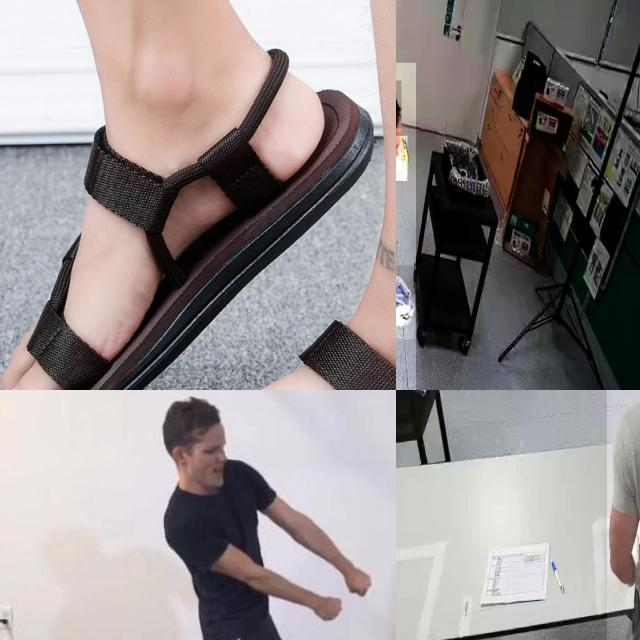No_Ear-Protection: (168, 441, 195, 477)
Sandals: (0, 33, 396, 390)
face_mask: (396, 135, 407, 181)
face_nomask: (208, 458, 238, 491)
hand_glove: (396, 294, 416, 340), (396, 265, 414, 308)
hand_noglove: (338, 545, 386, 607), (294, 591, 348, 631)
person: (158, 395, 372, 640)
